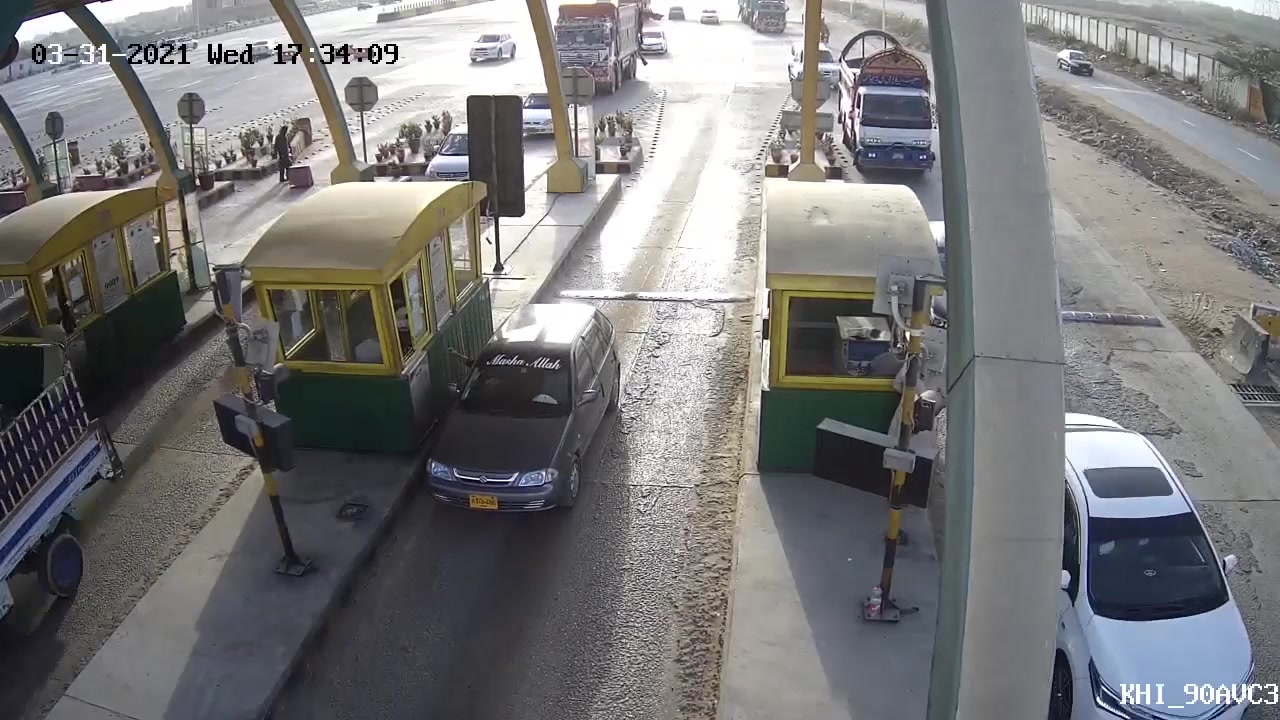F1: (426, 304, 620, 520)
